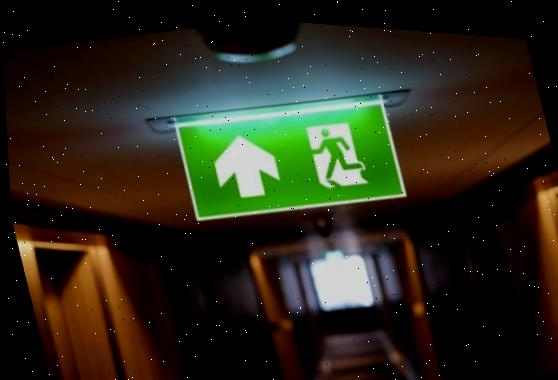emergency_exit: (172, 91, 408, 223)
